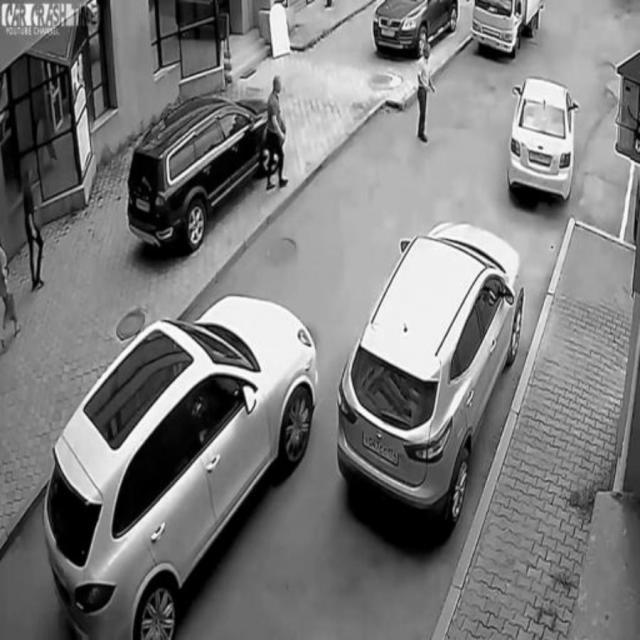person: (18, 161, 48, 295), (262, 70, 289, 207), (0, 229, 20, 356), (413, 43, 438, 143)
vehicle: (44, 300, 320, 635), (334, 214, 526, 534), (126, 99, 270, 243), (507, 70, 577, 204), (371, 0, 461, 55), (473, 0, 544, 60)
